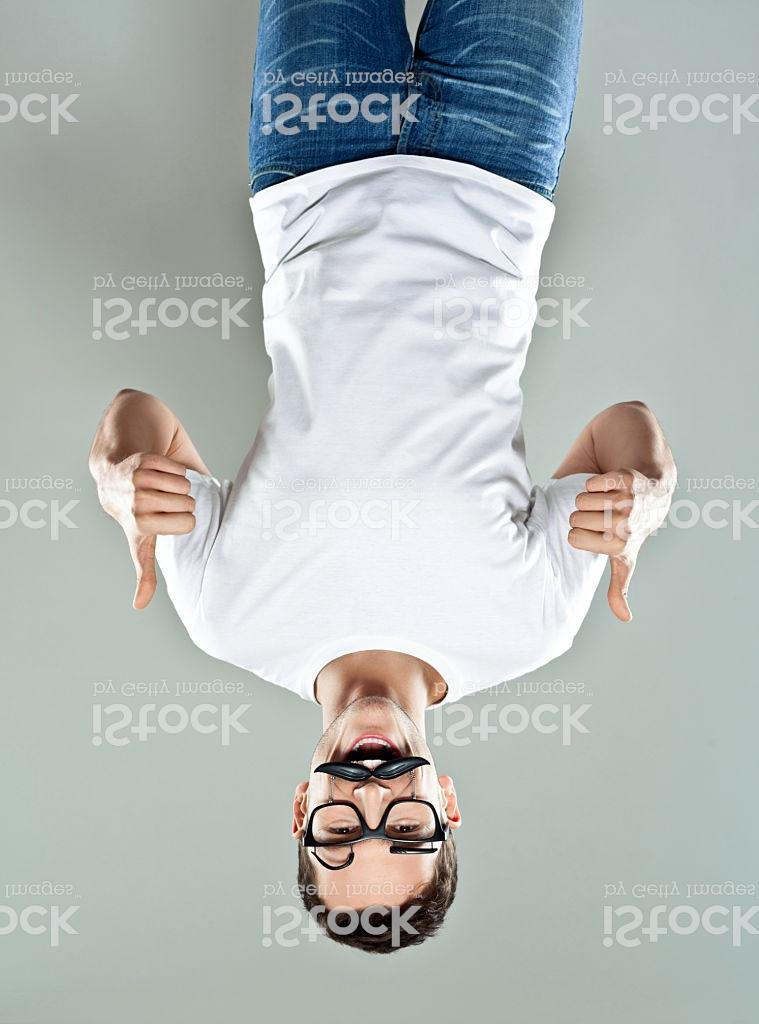thumbsdown: (113, 450, 198, 611), (565, 465, 641, 623)
